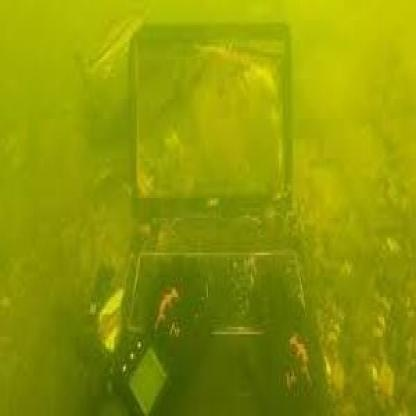electronics: (118, 27, 310, 416)
